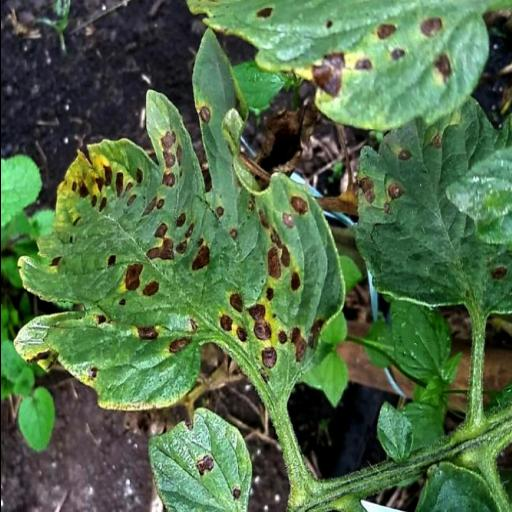disease_tomato: (12, 91, 344, 407), (187, 0, 490, 132), (352, 97, 508, 318), (147, 410, 253, 512)
